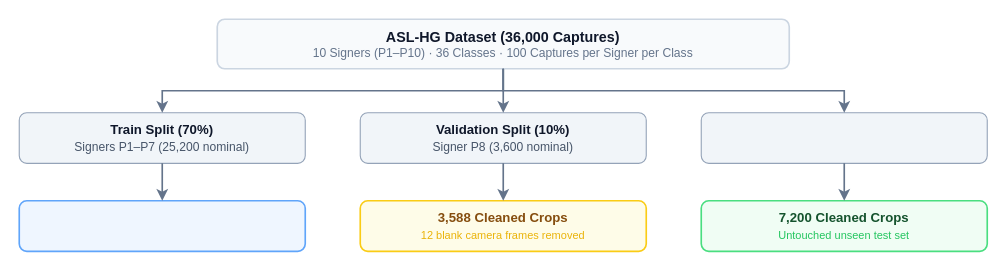
Some shapes in this 1008 by 272 pixel diagram are drawn without their labels. Each missing label, with the centre of its shape:
24,777 Cleaned Crops 423 burst duplicates removed: [162,225]
Test Split (20%) Signers P9, P10 (7,200 nominal): [843,137]
